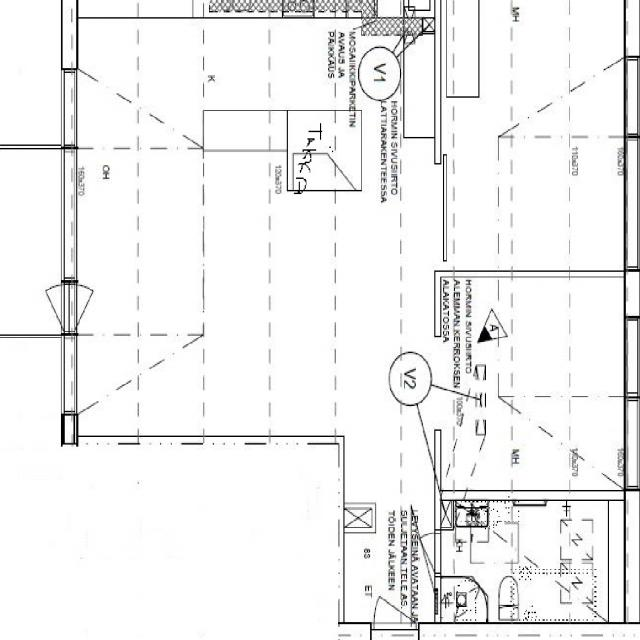door: (374, 577, 415, 640), (61, 284, 115, 331), (24, 284, 78, 331), (404, 534, 440, 573)
